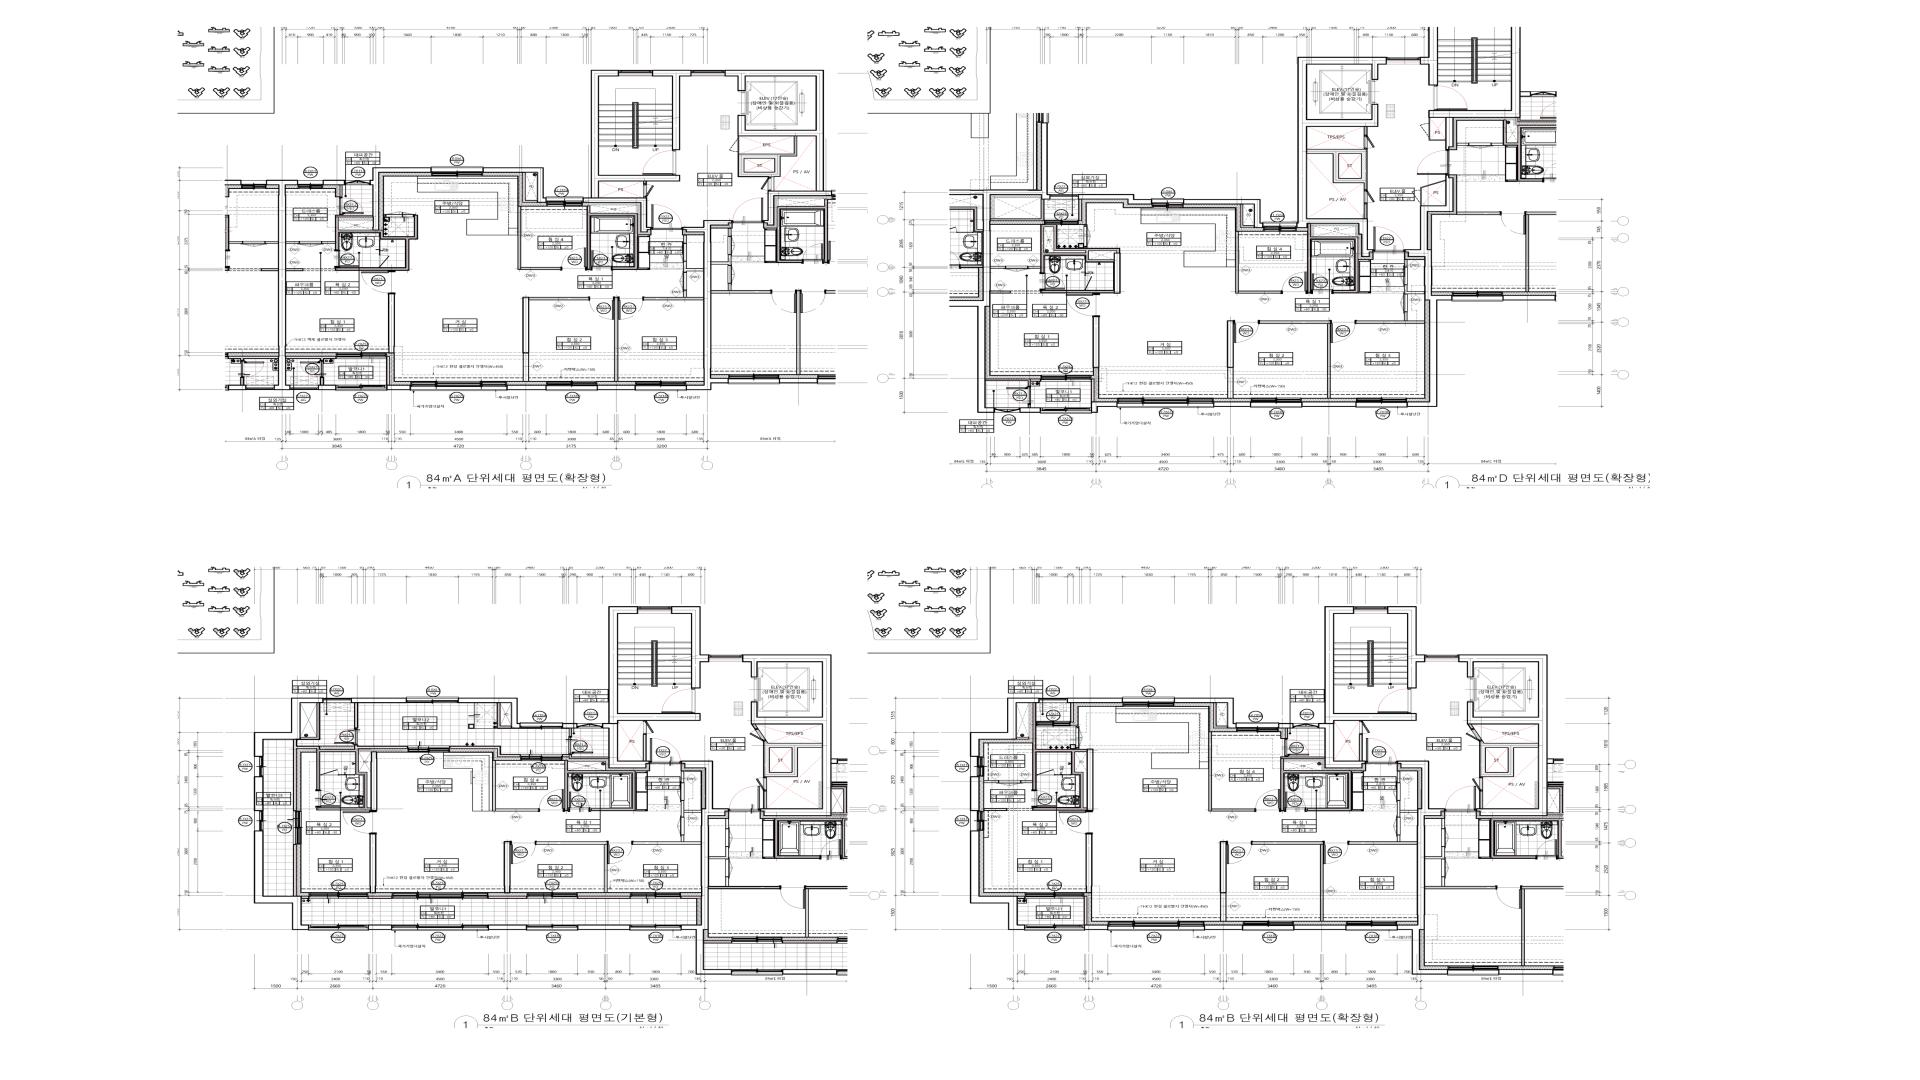door: (661, 688, 696, 713), (642, 150, 676, 175), (1378, 688, 1412, 713), (651, 202, 682, 229), (1373, 227, 1404, 253), (649, 738, 680, 765), (343, 811, 377, 835), (1366, 738, 1396, 765), (729, 786, 760, 812), (1435, 86, 1468, 109), (1067, 294, 1100, 318), (361, 272, 396, 294), (1059, 811, 1093, 833), (617, 297, 645, 320), (1323, 841, 1349, 865), (1233, 320, 1261, 343), (608, 841, 633, 865), (589, 297, 615, 320), (538, 790, 564, 812), (1331, 320, 1357, 343), (1226, 841, 1253, 864), (510, 841, 535, 864), (562, 248, 587, 270), (1282, 272, 1307, 294), (1255, 790, 1280, 812), (568, 791, 591, 812), (1284, 791, 1307, 812), (568, 736, 593, 754), (334, 249, 359, 268), (1006, 386, 1031, 405), (1284, 738, 1309, 757), (1039, 273, 1065, 290), (1312, 273, 1333, 294), (315, 790, 340, 807), (339, 198, 364, 215), (1031, 790, 1056, 807), (591, 251, 612, 270), (334, 729, 357, 745), (299, 361, 323, 377), (749, 728, 766, 745), (1464, 729, 1482, 745), (729, 136, 740, 154), (754, 778, 767, 791), (1472, 777, 1484, 791), (644, 182, 654, 198), (1084, 224, 1091, 248), (1364, 136, 1375, 149), (1364, 190, 1375, 203), (761, 177, 771, 191), (1006, 265, 1029, 272), (1076, 727, 1083, 749), (378, 255, 389, 268), (1360, 721, 1370, 735), (644, 721, 654, 735), (1036, 769, 1056, 775), (320, 769, 339, 775), (299, 241, 322, 247), (1084, 276, 1092, 290), (1000, 781, 1021, 786)
wall: (1298, 57, 1387, 257), (725, 70, 832, 225), (977, 190, 1051, 413), (1319, 607, 1418, 769), (603, 607, 702, 769), (583, 70, 680, 232), (1458, 655, 1548, 816), (742, 654, 831, 816), (1428, 3, 1522, 150), (1404, 175, 1455, 407), (1396, 761, 1448, 975), (680, 761, 732, 975), (682, 220, 733, 390), (293, 740, 407, 811), (266, 179, 298, 390), (1033, 703, 1087, 811), (1253, 841, 1324, 922), (522, 297, 589, 381), (1261, 320, 1331, 398), (971, 831, 1025, 930), (255, 831, 309, 930), (335, 215, 418, 272), (969, 698, 1039, 757), (253, 698, 323, 757), (1040, 224, 1121, 273), (369, 167, 431, 231), (1208, 732, 1255, 811), (1280, 760, 1352, 811), (564, 760, 636, 811), (537, 841, 607, 893), (1307, 224, 1358, 294), (587, 206, 638, 270), (651, 70, 691, 150), (1420, 3, 1458, 86), (1387, 605, 1425, 688), (671, 607, 709, 688), (443, 752, 493, 812), (1236, 232, 1282, 294), (518, 207, 562, 270), (1308, 149, 1367, 190), (1183, 199, 1263, 228), (483, 167, 546, 203), (493, 761, 538, 811), (1480, 740, 1539, 777), (764, 741, 822, 778), (458, 698, 521, 729), (1175, 698, 1237, 728), (990, 199, 1044, 222), (1042, 227, 1085, 253), (1357, 313, 1424, 324), (1077, 194, 1153, 204), (450, 746, 521, 757), (301, 703, 320, 740), (633, 835, 702, 845), (1420, 179, 1445, 206), (645, 290, 704, 301), (1349, 836, 1416, 845), (1226, 320, 1234, 398), (770, 748, 793, 773), (1338, 154, 1361, 178), (1220, 841, 1226, 922), (1085, 835, 1093, 894), (522, 173, 537, 203), (1087, 749, 1093, 811), (1092, 318, 1100, 368), (371, 752, 377, 811), (388, 294, 394, 353), (369, 835, 376, 893), (1429, 117, 1445, 141), (680, 800, 702, 818), (969, 777, 980, 811), (1396, 800, 1418, 818), (253, 777, 264, 811), (986, 378, 1031, 386), (497, 703, 510, 729), (1240, 204, 1254, 228), (504, 841, 510, 893), (1213, 703, 1226, 728), (615, 298, 618, 381), (1067, 698, 1124, 703), (351, 698, 407, 703), (1040, 290, 1114, 294), (1302, 402, 1357, 407), (1091, 402, 1117, 413), (1294, 924, 1346, 930), (578, 924, 630, 930), (1114, 253, 1121, 294), (286, 356, 336, 361), (562, 754, 608, 760), (683, 261, 703, 273), (506, 385, 547, 390), (1204, 924, 1244, 930), (488, 924, 527, 930), (293, 844, 297, 897), (1213, 402, 1251, 407), (597, 385, 636, 390), (1404, 285, 1424, 294), (488, 895, 527, 899), (578, 897, 630, 899), (642, 735, 647, 761), (386, 385, 411, 390), (1084, 924, 1109, 930), (353, 703, 359, 728), (368, 924, 392, 930), (1077, 199, 1083, 222), (1019, 407, 1042, 413), (386, 356, 390, 385), (1280, 757, 1324, 760), (1084, 897, 1088, 924), (562, 723, 578, 729), (368, 895, 393, 899), (318, 385, 336, 390), (335, 215, 372, 218), (323, 181, 345, 185), (1091, 378, 1095, 401), (990, 290, 1011, 294), (1278, 723, 1294, 728), (1360, 735, 1362, 761), (1480, 791, 1484, 808), (764, 791, 767, 808), (1364, 203, 1367, 219), (984, 808, 1007, 811), (680, 895, 700, 898), (1071, 703, 1073, 723), (680, 771, 684, 783), (339, 186, 343, 198), (286, 269, 303, 272), (1031, 378, 1042, 382), (990, 266, 1006, 269), (319, 377, 324, 385), (984, 781, 1000, 783), (1364, 127, 1367, 136), (683, 235, 687, 244), (1284, 729, 1288, 738), (286, 241, 299, 244), (322, 241, 335, 244), (568, 729, 572, 737), (1404, 260, 1408, 268), (1029, 266, 1040, 269), (1017, 737, 1029, 740), (1398, 771, 1400, 783), (1022, 781, 1033, 783), (1468, 725, 1474, 729), (752, 725, 758, 729), (1018, 897, 1025, 899), (302, 897, 309, 899), (1027, 405, 1031, 407)
window: (1108, 920, 1204, 931), (411, 381, 506, 392), (1117, 398, 1213, 407), (392, 924, 488, 931), (393, 893, 488, 899), (431, 166, 483, 177), (1124, 696, 1175, 707), (636, 381, 686, 392), (1346, 920, 1396, 931), (547, 381, 596, 392), (1251, 398, 1302, 407), (1357, 398, 1407, 407), (1244, 922, 1294, 931), (309, 924, 368, 931), (1025, 924, 1084, 931), (1025, 893, 1084, 899), (546, 196, 583, 207), (1237, 723, 1279, 732), (1042, 375, 1091, 382), (310, 893, 367, 899), (1263, 222, 1298, 232), (527, 893, 578, 899), (527, 924, 578, 931), (630, 924, 680, 931), (630, 893, 680, 899), (407, 698, 458, 704), (336, 352, 386, 359), (336, 385, 386, 392), (1040, 407, 1091, 414), (1153, 198, 1183, 208), (293, 811, 302, 844), (521, 754, 562, 761), (521, 723, 562, 729), (407, 746, 448, 753), (1387, 57, 1420, 65), (1425, 654, 1458, 662), (971, 811, 984, 831), (971, 757, 984, 777), (1458, 4, 1491, 11), (1354, 607, 1387, 613), (709, 655, 742, 662), (638, 607, 671, 613), (298, 181, 323, 189), (255, 811, 264, 831), (255, 757, 264, 777), (1036, 721, 1071, 727), (323, 698, 351, 703), (290, 385, 318, 390), (1039, 698, 1067, 703), (1051, 194, 1077, 199), (1044, 220, 1079, 224), (1294, 723, 1319, 728), (996, 407, 1019, 413), (578, 724, 603, 728), (345, 181, 369, 185)
